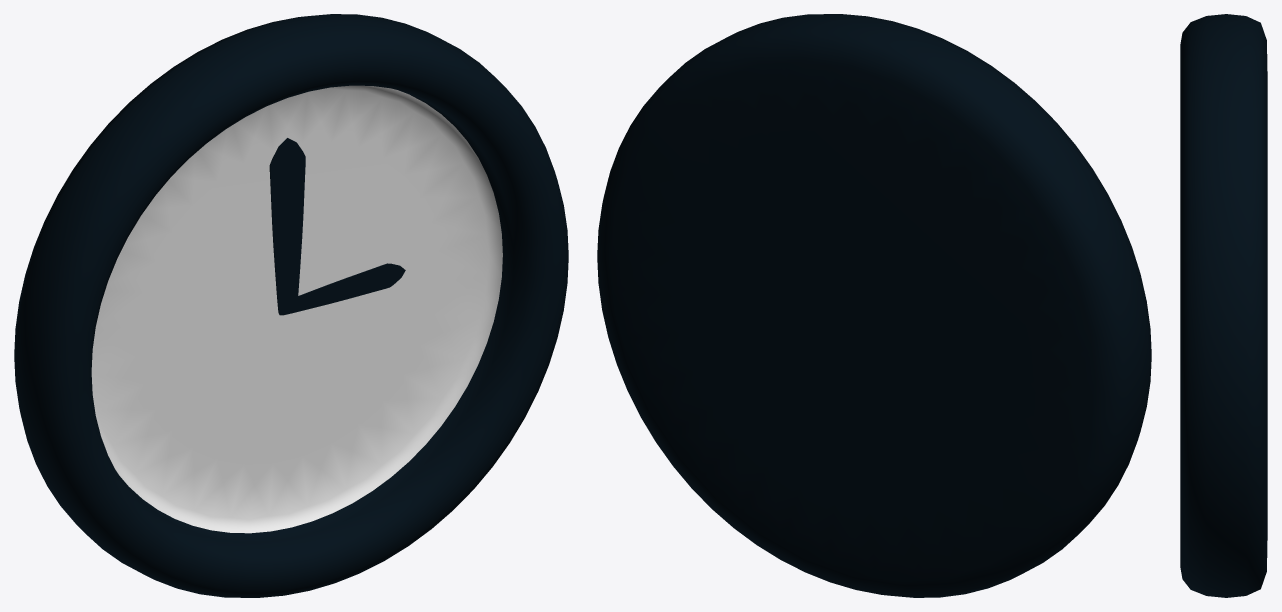
File: Clock.fbx
3 views of the same model, side by side, from view 1: azimuth 30°, elevation 25°; view 2: azimuth 150°, elevation 25°; view 3: azimuth 270°, elevation 25° (orthographic). The views are drawn at different scales.
Visible parts, largest first — view 1: Cylinder.007; view 2: Cylinder.007; view 3: Cylinder.007.
Boxes of the visible parts, x1=… form: Cylinder.007: x1=14, y1=14, x2=568, y2=597; Cylinder.007: x1=597, y1=14, x2=1151, y2=597; Cylinder.007: x1=1180, y1=14, x2=1267, y2=597.
Bounding box in the file's own units: 68.21 × 68.21 × 10.21.
